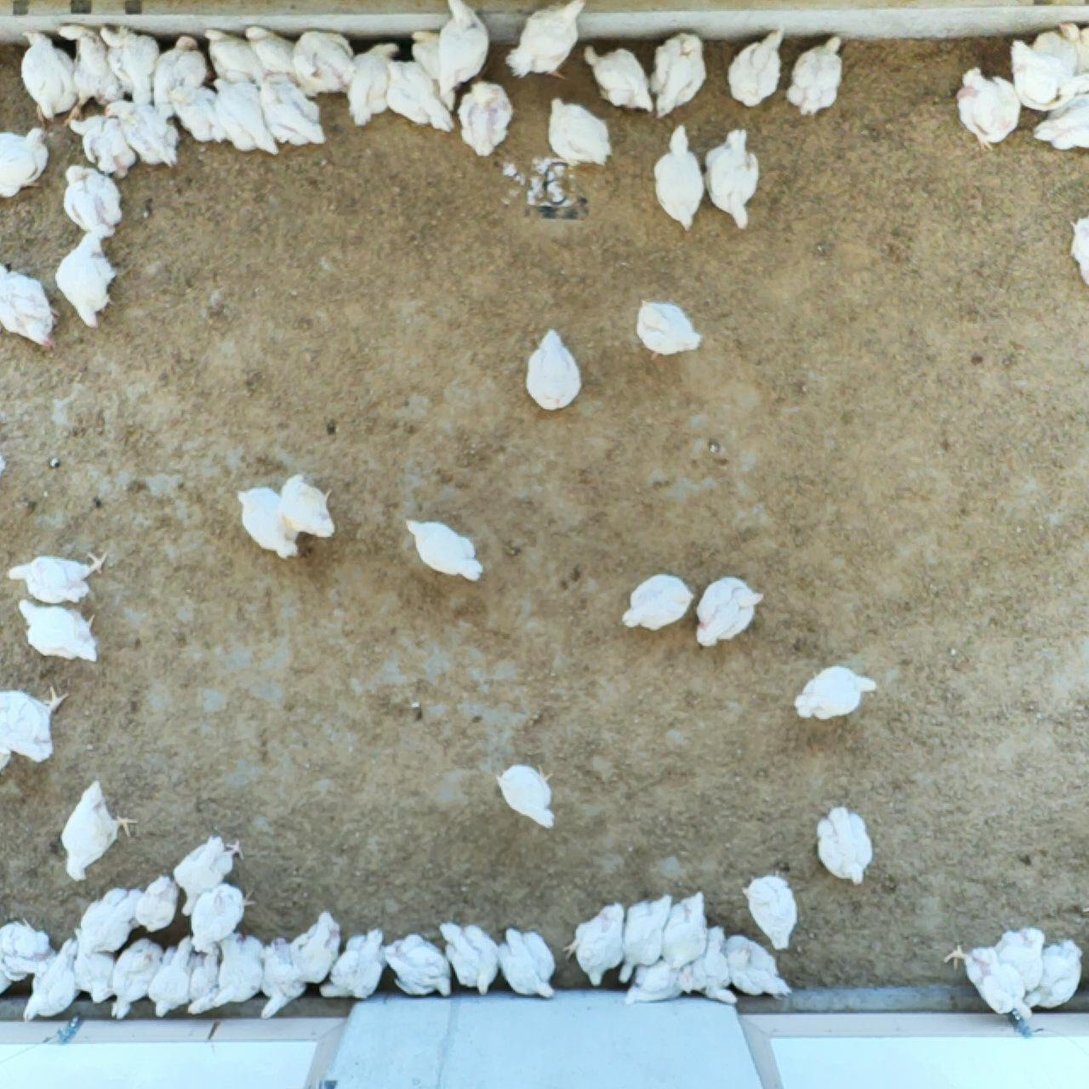chicken: (59, 779, 134, 881), (948, 934, 1031, 1022), (55, 25, 129, 120), (516, 323, 590, 416), (99, 100, 188, 170), (504, 1, 583, 77), (584, 37, 659, 117), (655, 120, 710, 229), (12, 596, 100, 664), (961, 66, 1026, 156), (402, 515, 488, 583), (17, 33, 78, 127), (496, 762, 572, 836), (55, 232, 116, 323), (97, 26, 170, 102), (381, 55, 454, 131), (237, 481, 306, 561), (702, 129, 757, 229), (653, 32, 711, 125), (174, 839, 244, 916), (273, 914, 344, 988), (313, 929, 389, 998), (737, 872, 805, 949), (1008, 33, 1075, 111), (25, 935, 83, 1025), (6, 552, 108, 603), (815, 801, 874, 889), (1, 679, 61, 765), (619, 571, 696, 637), (1, 263, 60, 348), (148, 35, 208, 118), (255, 74, 324, 145), (789, 33, 847, 116), (632, 294, 705, 359), (216, 76, 275, 156), (571, 904, 626, 989), (725, 26, 782, 108), (437, 920, 501, 993), (799, 667, 878, 726), (549, 93, 611, 168), (727, 933, 795, 1001), (288, 31, 359, 95), (1023, 940, 1086, 1012), (433, 1, 485, 88), (57, 165, 119, 237), (386, 934, 453, 1000), (80, 886, 143, 956), (698, 578, 761, 644), (278, 475, 340, 541), (1, 124, 52, 204), (192, 881, 250, 951), (71, 114, 134, 177), (462, 79, 511, 159), (110, 933, 159, 1013), (622, 893, 664, 984), (407, 29, 454, 109), (498, 929, 553, 997), (201, 26, 266, 83), (260, 942, 307, 1020), (220, 932, 265, 1011), (248, 25, 305, 86), (686, 929, 731, 1004), (346, 39, 385, 124), (1, 917, 52, 981), (151, 944, 199, 1012), (170, 80, 223, 140), (668, 888, 704, 974), (78, 944, 126, 1006), (123, 872, 174, 929), (1001, 925, 1042, 991), (1039, 97, 1089, 149), (627, 961, 681, 1005), (191, 946, 224, 1012), (1065, 216, 1089, 295), (1061, 18, 1089, 82)
